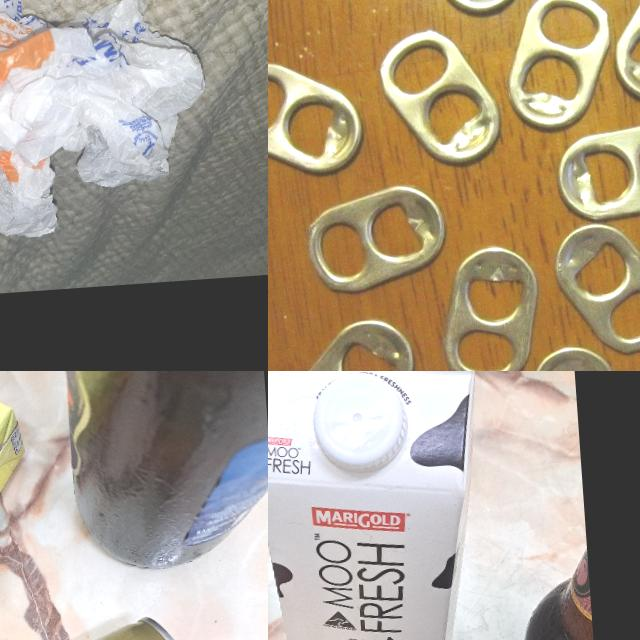aba de lata: (376, 24, 505, 170), (302, 181, 449, 298), (498, 0, 619, 135), (434, 241, 545, 371), (550, 218, 640, 361), (268, 55, 364, 182), (553, 118, 640, 225), (283, 314, 421, 371), (524, 341, 635, 371)
caixinha: (268, 371, 506, 640), (314, 372, 409, 476)
garrafa de vidro: (63, 371, 268, 576), (486, 532, 603, 640)
sacola plástica: (0, 0, 216, 249)
